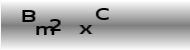2: (48, 18, 61, 31)
B: (20, 9, 37, 23)
C: (94, 6, 110, 20)
m: (34, 25, 55, 36)
x: (79, 24, 94, 35)
